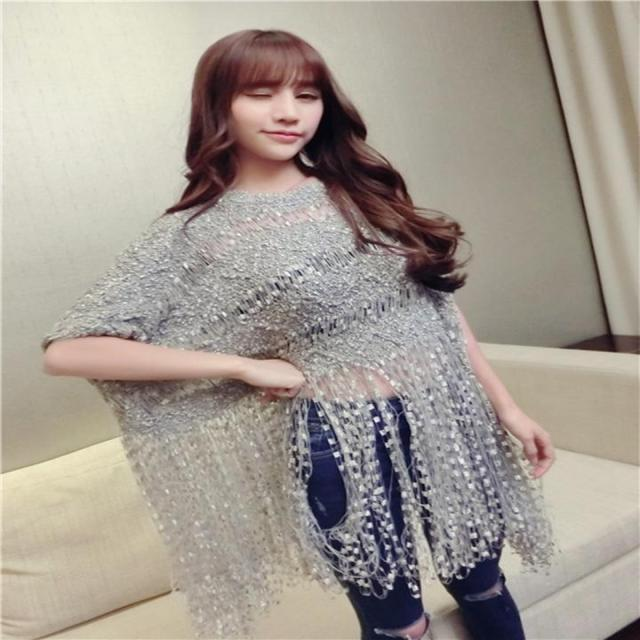long sleeve dress: (44, 166, 549, 637)
trousers: (284, 369, 524, 639)
